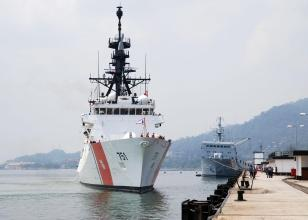warship: (81, 1, 181, 194), (194, 115, 253, 178)
